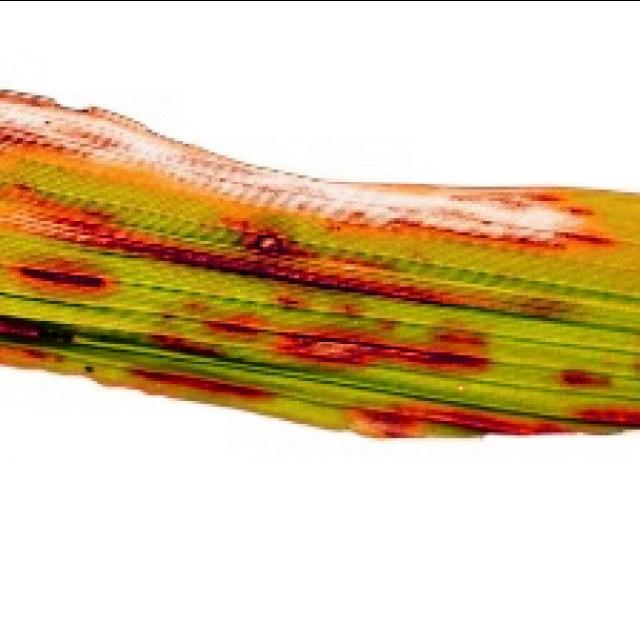Unhealthy: (0, 88, 612, 249), (52, 217, 474, 307), (269, 329, 493, 368), (222, 216, 319, 261), (127, 369, 271, 396), (0, 313, 77, 355), (451, 408, 570, 434), (365, 404, 450, 438), (21, 268, 105, 292), (148, 332, 222, 359), (578, 407, 640, 429), (557, 368, 609, 386), (439, 332, 488, 346), (208, 322, 266, 332)
